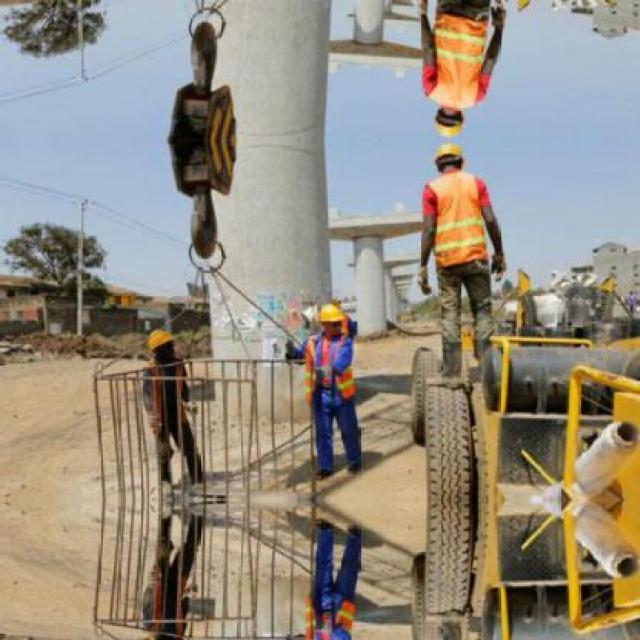Reflective-Jacket: (417, 172, 500, 274), (298, 333, 362, 407), (138, 355, 196, 427)
Safety-Helmet: (426, 137, 472, 171), (312, 299, 350, 330), (143, 325, 177, 355)
